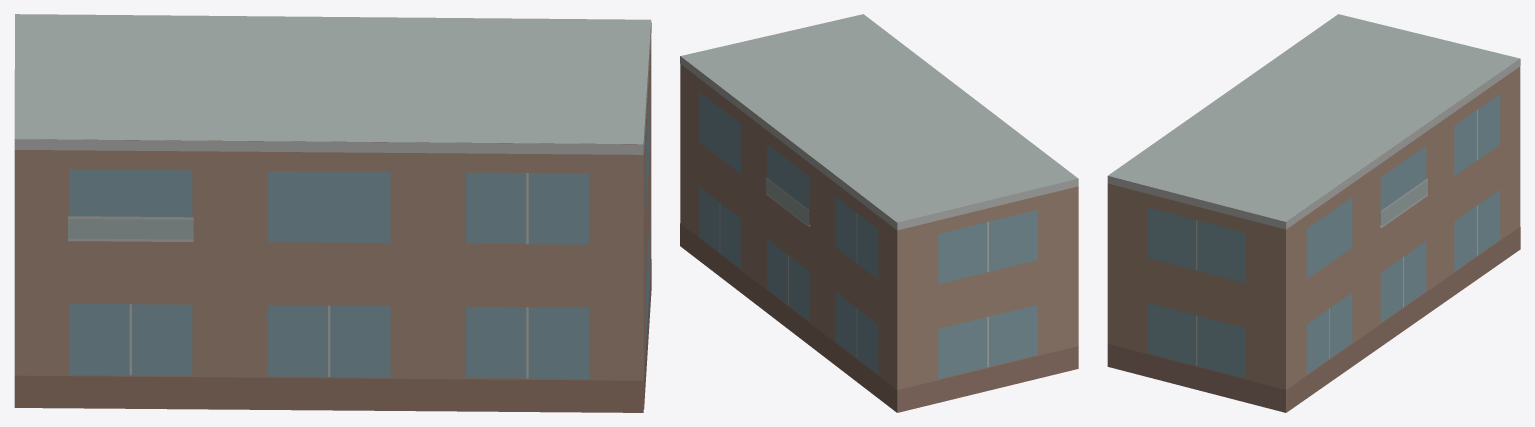
The model's file is survey-upis-32706615.glb.
The picture shows the model from 3 angles, left to right: view 1: azimuth 30°, elevation 25°; view 2: azimuth 150°, elevation 25°; view 3: azimuth 270°, elevation 25°; orthographic projection. The views are drawn at different scales.
Visible parts, largest first — view 1: survey-upis-32706615.tmp; view 2: survey-upis-32706615.tmp; view 3: survey-upis-32706615.tmp.
Boxes of the visible parts, x1,y1,x2,y2 form: survey-upis-32706615.tmp: (14, 14, 651, 412); survey-upis-32706615.tmp: (680, 14, 1078, 412); survey-upis-32706615.tmp: (1107, 14, 1520, 412).
Bounding box in the file's own units: 14.26 × 6.1 × 11.96.
